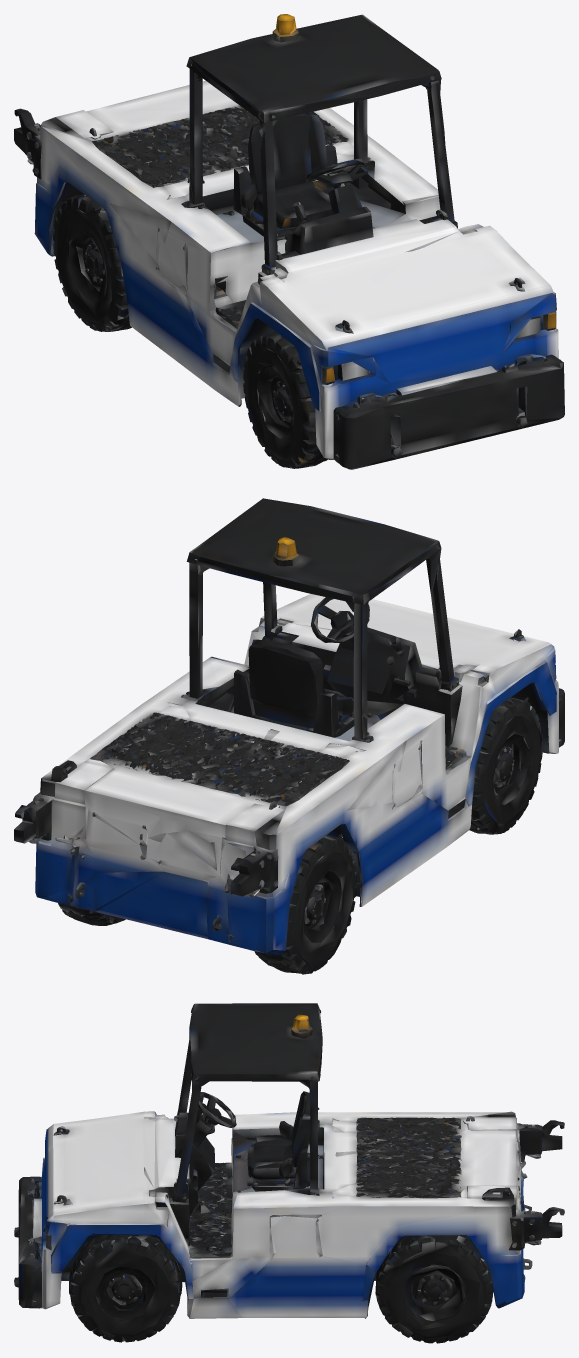
Rendered from stellar_tug.glb.
The picture shows the model from 3 angles, top to bottom: view 1: azimuth 30°, elevation 25°; view 2: azimuth 150°, elevation 25°; view 3: azimuth 270°, elevation 25°; orthographic projection. The views are drawn at different scales.
Visible parts, largest first — view 1: LO; view 2: LO; view 3: LO.
Boxes of the visible parts, x1,y1,x2,y2 form: LO: (14, 14, 564, 469); LO: (14, 498, 564, 974); LO: (14, 1003, 564, 1343).
Size of the model in its own units: 1.87 by 2.54 by 4.49.
Materials: 1 (1 with a texture image).
